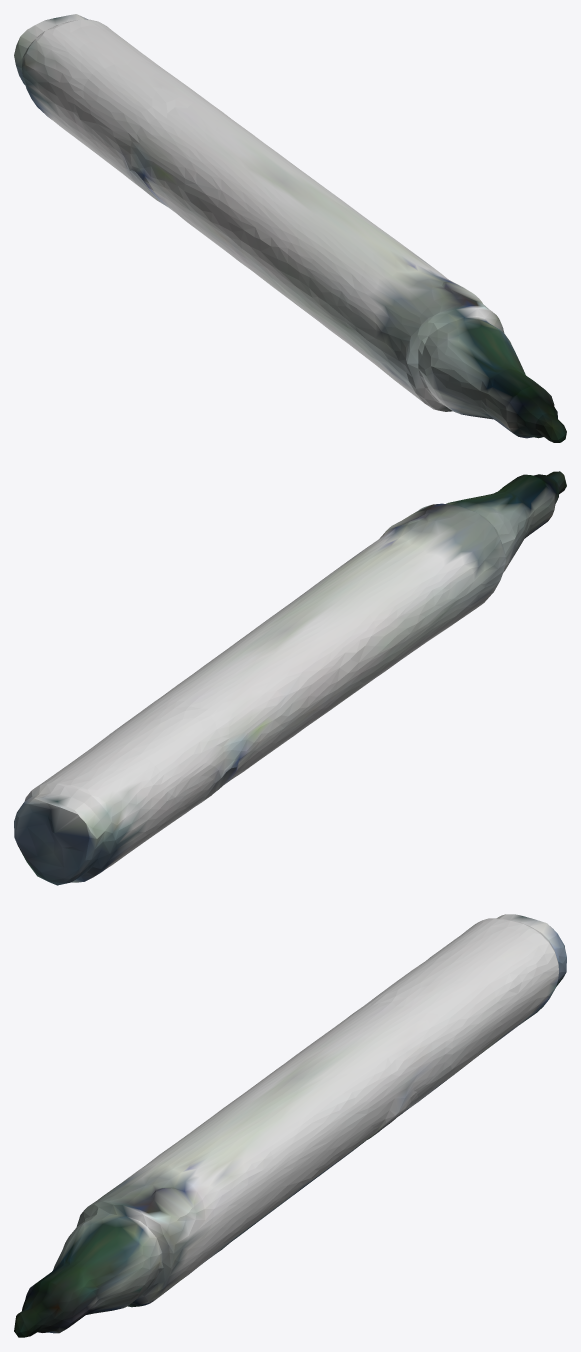
File: scan.obj
The picture shows the model from 3 angles, top to bottom: view 1: azimuth 30°, elevation 25°; view 2: azimuth 150°, elevation 25°; view 3: azimuth 330°, elevation 25°; orthographic projection.
Visible parts, largest first — view 1: scan.ply; view 2: scan.ply; view 3: scan.ply.
Boxes of the visible parts, left/top/right/bottom form: scan.ply: left=14, top=14, right=566, bottom=442; scan.ply: left=14, top=471, right=566, bottom=885; scan.ply: left=14, top=914, right=566, bottom=1337.
Bounding box in the file's own units: 0.0161 × 0.0164 × 0.1439.
